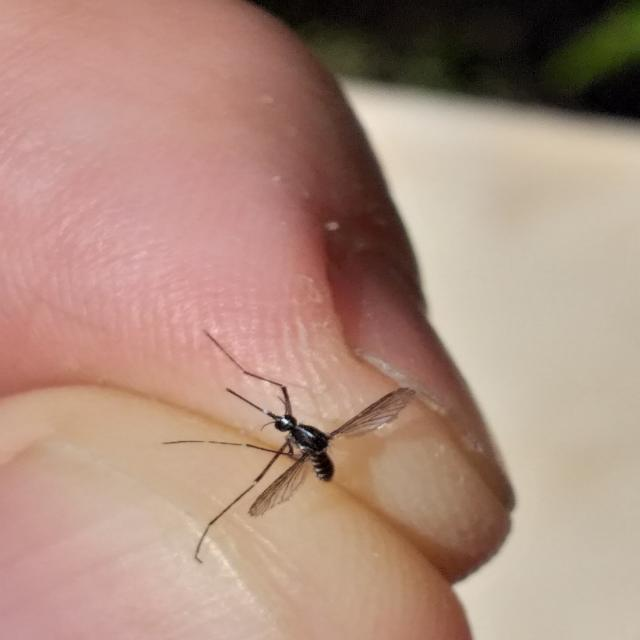albopictus: (158, 327, 420, 570)
